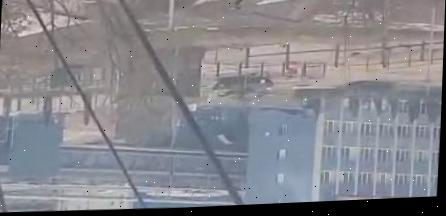tank: (211, 75, 286, 101)
